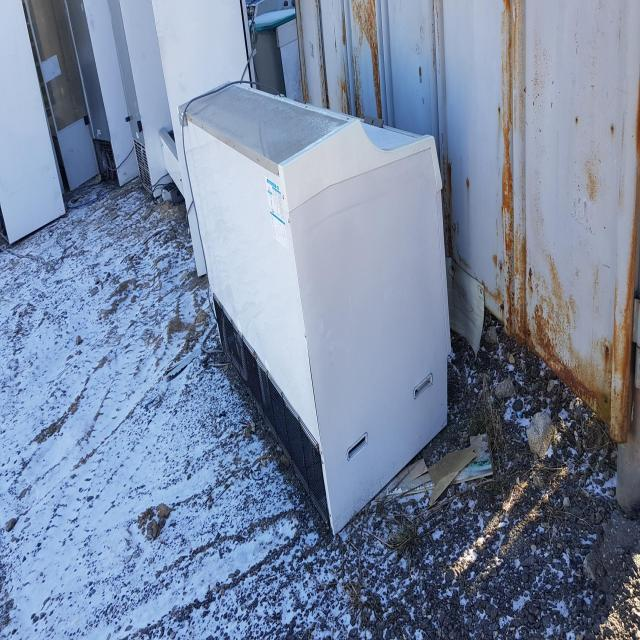refrigerator: (178, 80, 454, 538)
